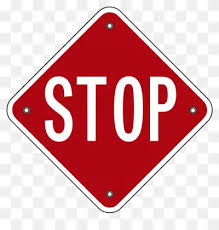stop sign: (5, 7, 213, 214)
